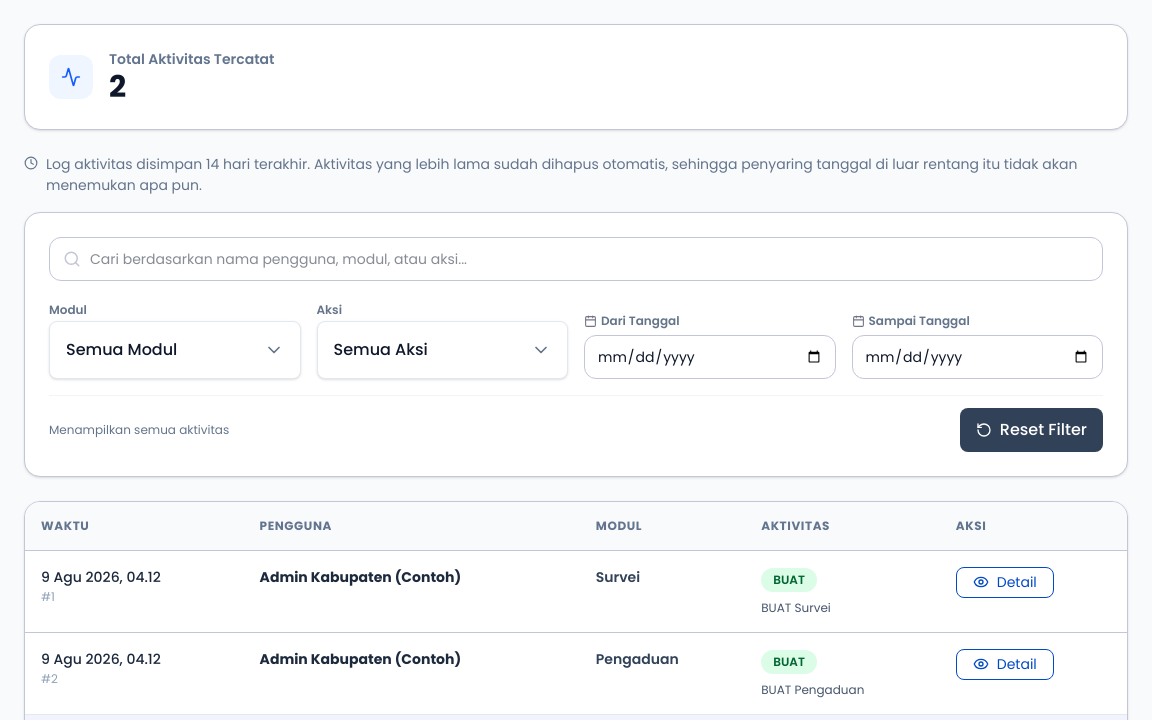
Halaman Audit Log (Admin Kabupaten) › mengirim filter entitas ke API saat modul dipilih
The width and height of the screenshot is (1152, 720).
Expected: the text "BUAT Survei" is shown, [761,599,831,616]
Click the button "Semua Modul": coordinates (175, 350) [49,321,300,379]
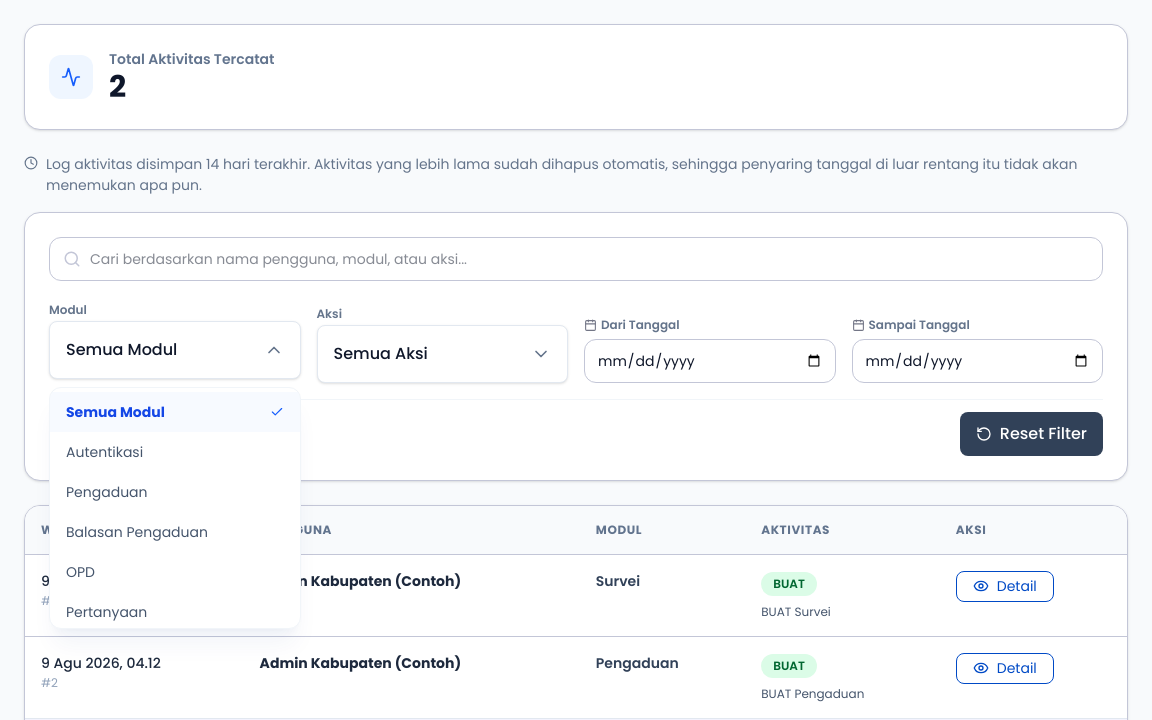
Click the button "Pengaduan": coordinates (175, 492) [50,472,300,512]
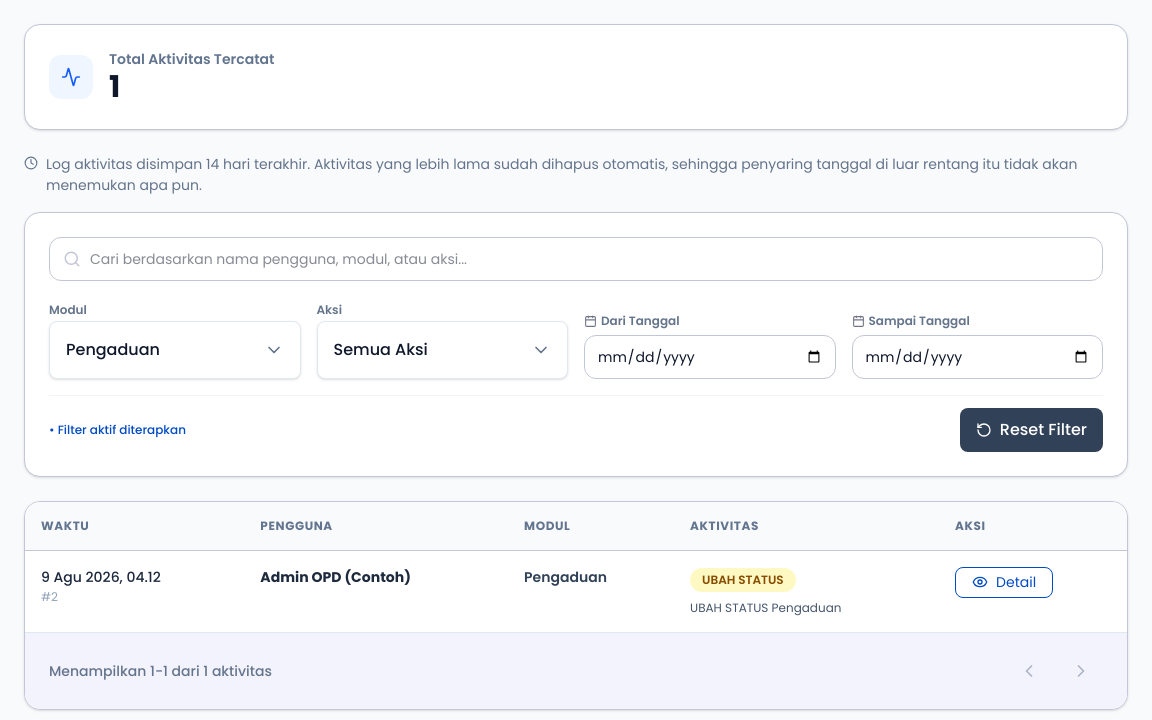
Now the text "UBAH STATUS Pengaduan" is shown, box [690,599,842,616]
Now the text "BUAT Survei" is gone
